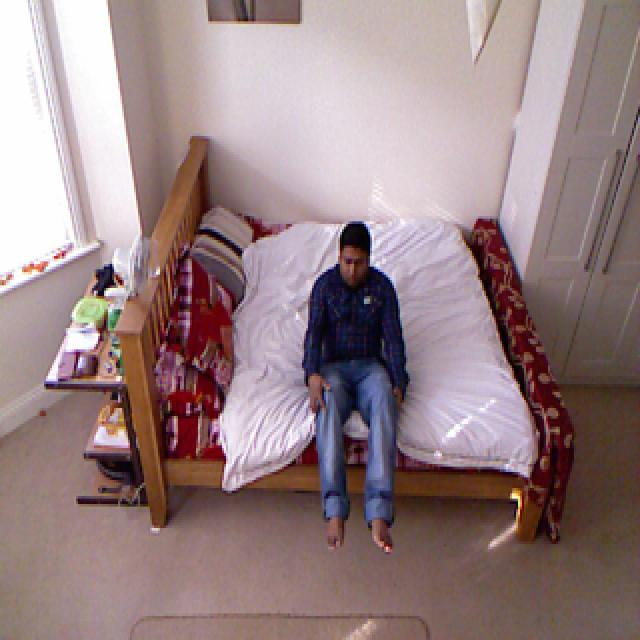sitting: (304, 226, 408, 551)
